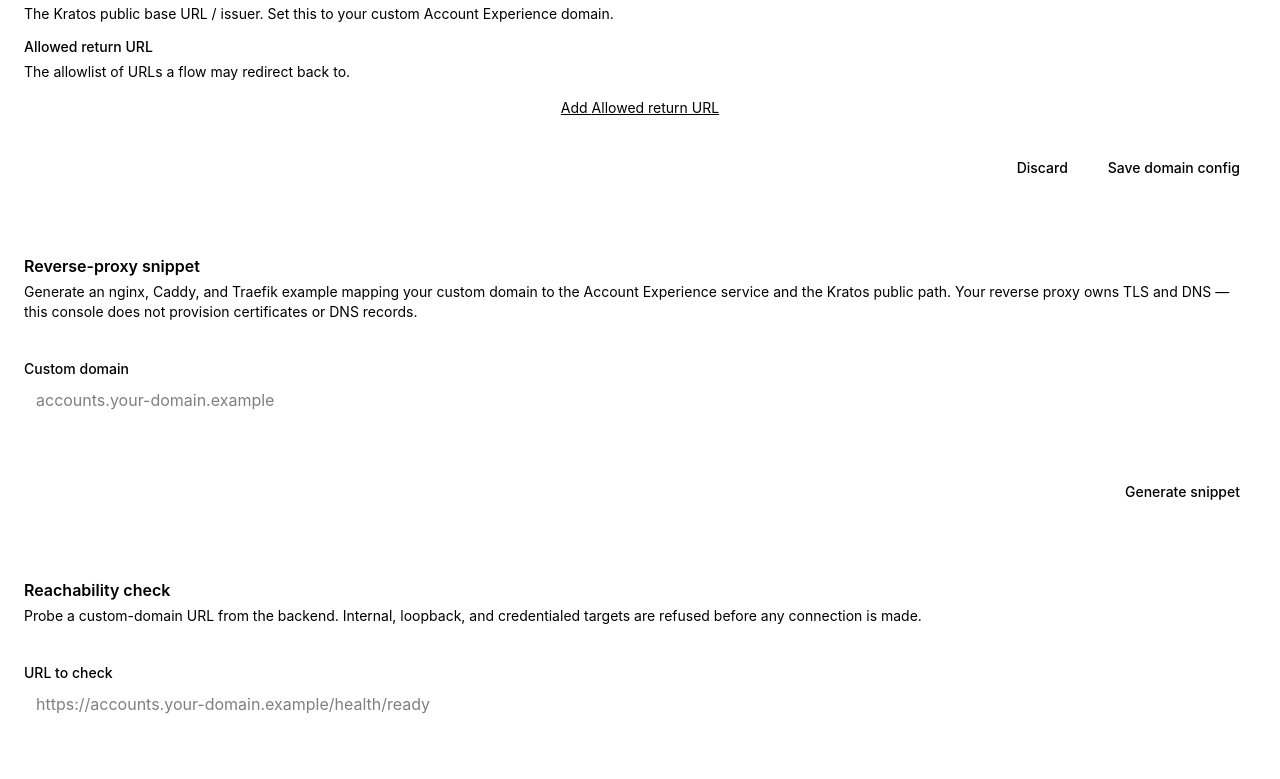
Test: Custom Domains page (AX-04) › generates a reverse-proxy snippet via GET /api/account-experience/reverse-proxy-snippet
(page scrolled)
Type "accounts.example.com" into the field named "custom domain for the reverse-proxy snippet".
click(640, 400); type("accounts.example.com")  # box [24,382,1256,418]
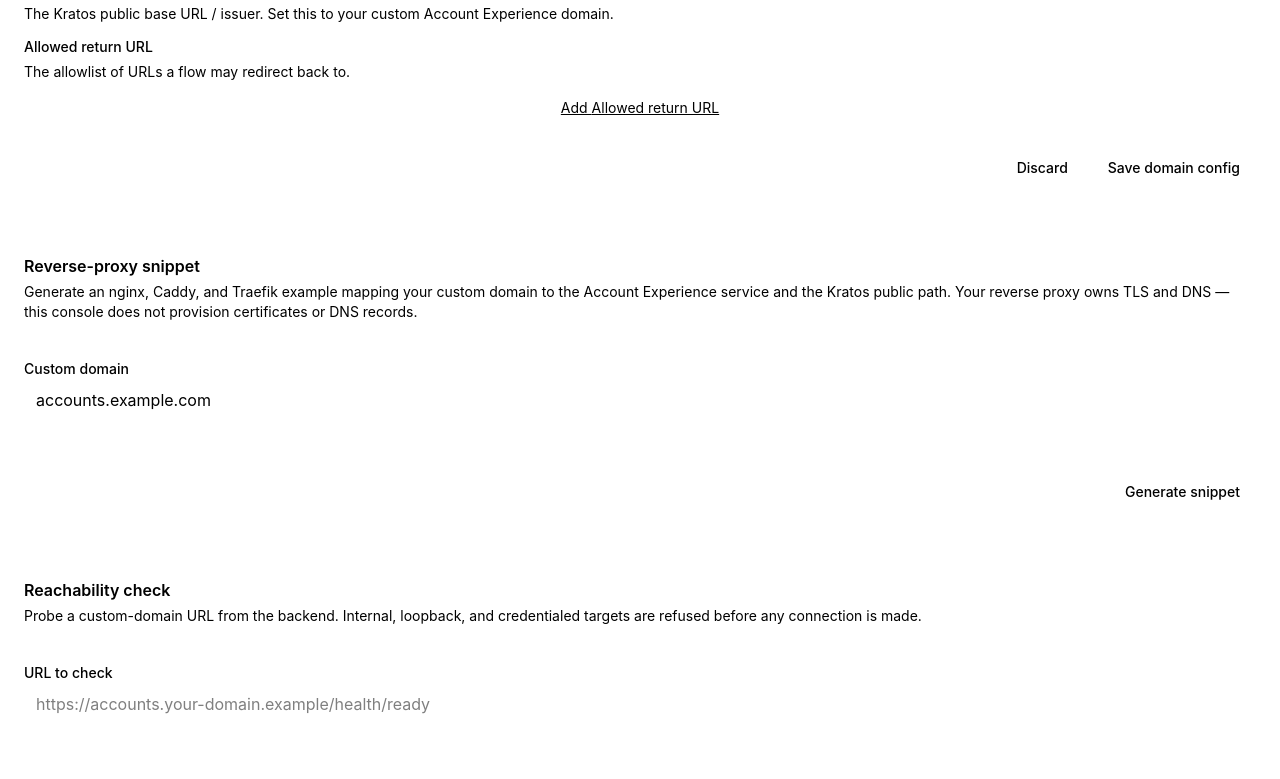
Click the button "Generate snippet".
click(1182, 492)  # box [1109,474,1256,510]
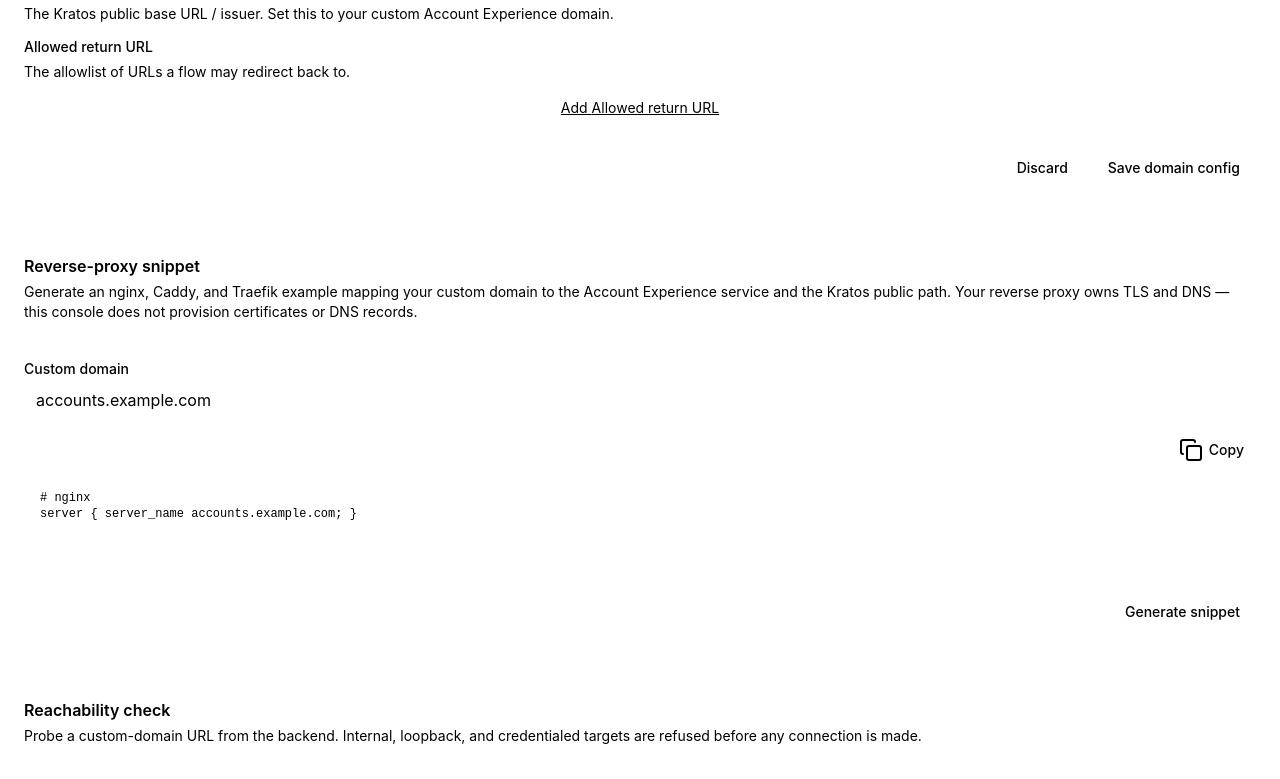
Expected: the element named "reverse-proxy guidance snippet" shows "server_name accounts.example.com", [40,491,357,521]
